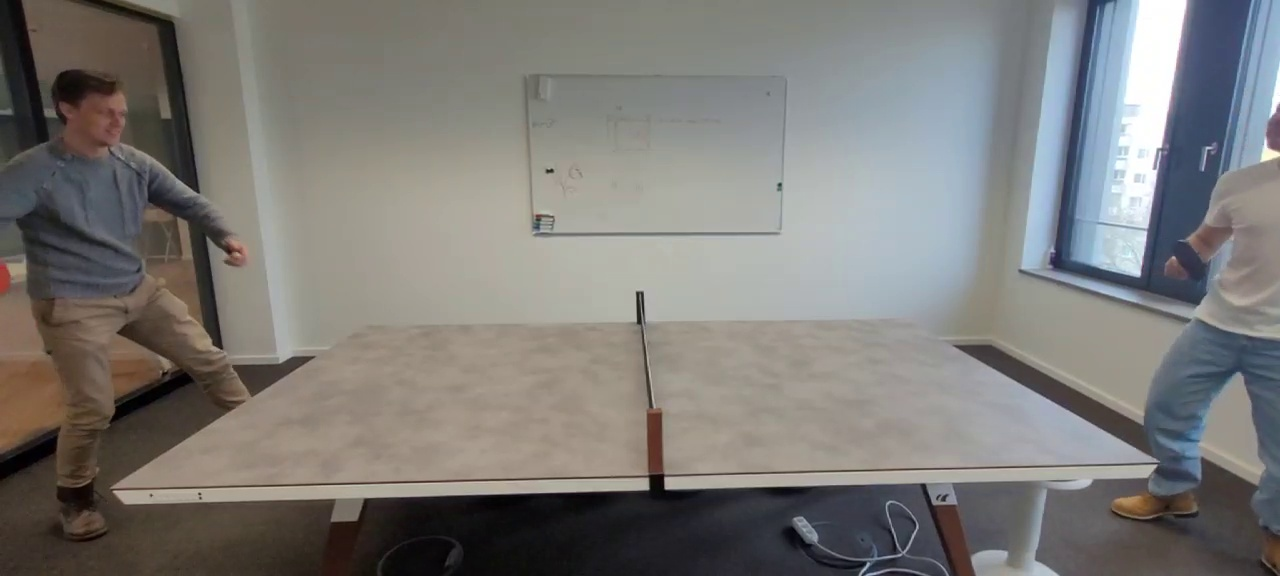1: (1173, 240, 1206, 279), (0, 258, 11, 297)
2: (232, 251, 241, 258)
ttplatte: (112, 316, 1158, 488)
